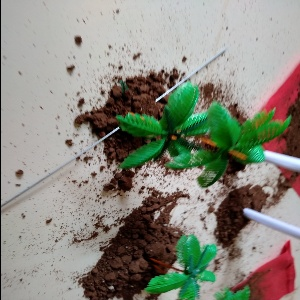plant: (112, 73, 300, 183), (147, 230, 263, 297)
